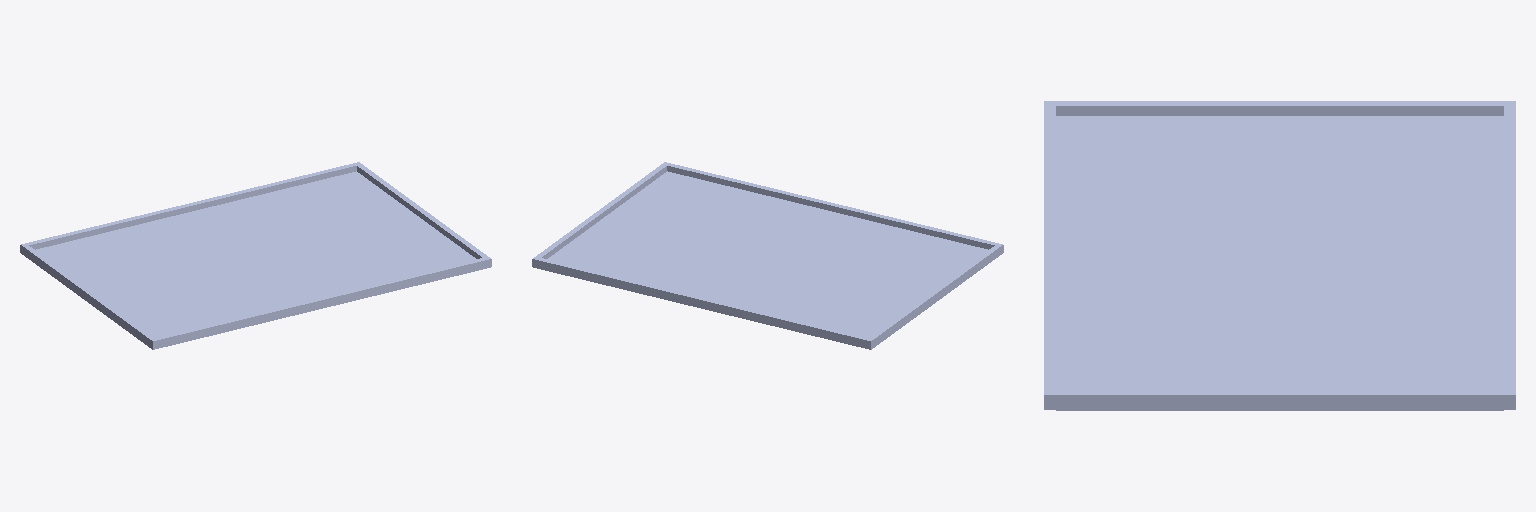
The robot description file, URDF, robot "tray":
<?xml version="1.0" encoding="utf-8"?>
<!-- This URDF was automatically created by SolidWorks to URDF Exporter! Originally created by [author] ([email redacted]) 
     Commit Version: 1.6.0-4-g7f85cfe  Build Version: 1.6.7995.38578
     For more information, please see http://wiki.ros.org/sw_urdf_exporter -->
<robot
  name="tray">
  <link
    name="tray">
    <inertial>
      <origin
        xyz="3.5841E-17 -3.005E-18 0.0058481"
        rpy="0 0 0" />
      <mass
        value="2.706" />
      <inertia
        ixx="0.041459"
        ixy="-4.6259E-19"
        ixz="6.0318E-19"
        iyy="0.089163"
        iyz="-2.5907E-19"
        izz="0.13054" />
    </inertial>
    <visual>
      <origin
        xyz="0 0 0"
        rpy="0 0 0" />
      <geometry>
        <mesh
          filename="package://tray/meshes/tray.STL" />
      </geometry>
      <material
        name="">
        <color
          rgba="0.79216 0.81961 0.93333 1" />
      </material>
    </visual>
    <collision>
      <origin
        xyz="0 0 0"
        rpy="0 0 0" />
      <geometry>
        <mesh
          filename="package://tray/meshes/tray.STL" />
      </geometry>
    </collision>
  </link>
</robot>

--- What the picture shows (computed from the rendered views, not written in the file) ---
The picture shows the robot from 3 angles, left to right: view 1: azimuth 30°, elevation 25°; view 2: azimuth 150°, elevation 25°; view 3: azimuth 270°, elevation 25°; orthographic projection.
Model tray with 1 links and 0 joints (none), rooted at tray, posed every joint at zero.
Links seen in each view (by area): view 1: tray; view 2: tray; view 3: tray.
Boxes of the visible links, x1,y1,x2,y2 form: tray: (20, 162, 491, 349); tray: (532, 162, 1003, 349); tray: (1044, 101, 1515, 410).
Bounding box of the posed robot: 0.62 × 0.42 × 0.02 m (x, y, z).
1 mesh visuals loaded from 1 distinct referenced files (1 binary STL).